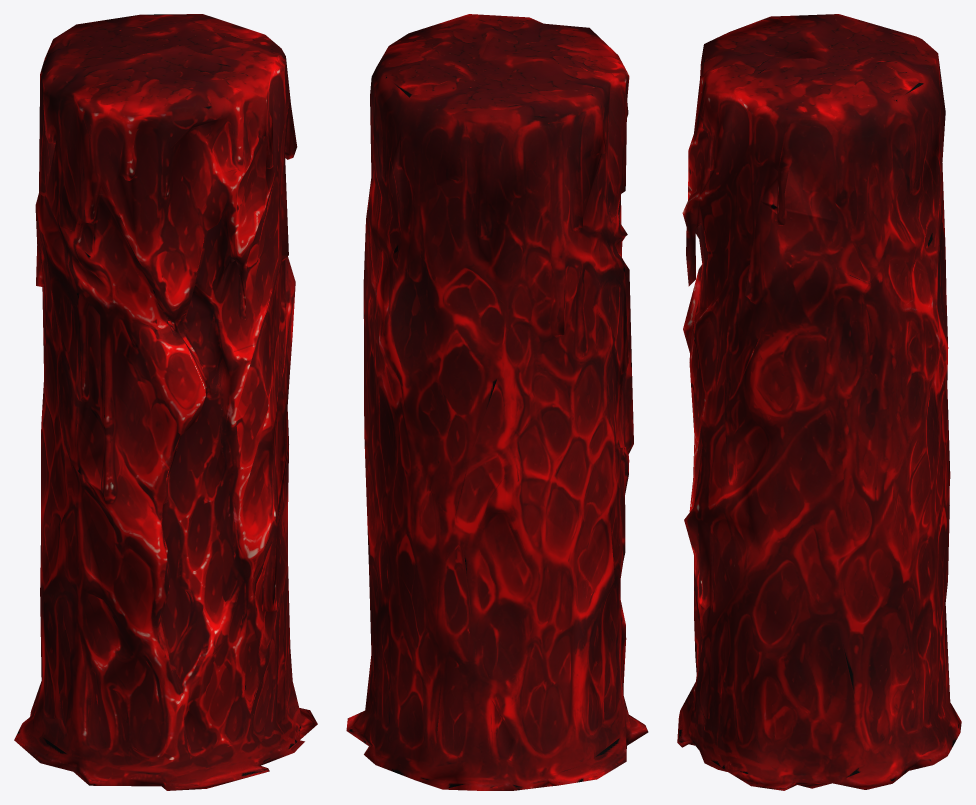
The model's file is Bleed.glb.
The picture shows the model from 3 angles, left to right: view 1: azimuth 30°, elevation 25°; view 2: azimuth 150°, elevation 25°; view 3: azimuth 270°, elevation 25°; orthographic projection.
Visible parts, largest first — view 1: Mesh1.0; view 2: Mesh1.0; view 3: Mesh1.0.
Part boxes in pixels (x1,y1,x2,y2): Mesh1.0: [14, 14, 317, 790]; Mesh1.0: [346, 14, 648, 790]; Mesh1.0: [677, 14, 961, 790].
Size of the model in its own units: 0.7538 by 1.93 by 0.7323.
Materials: 1 (1 with a texture image).
